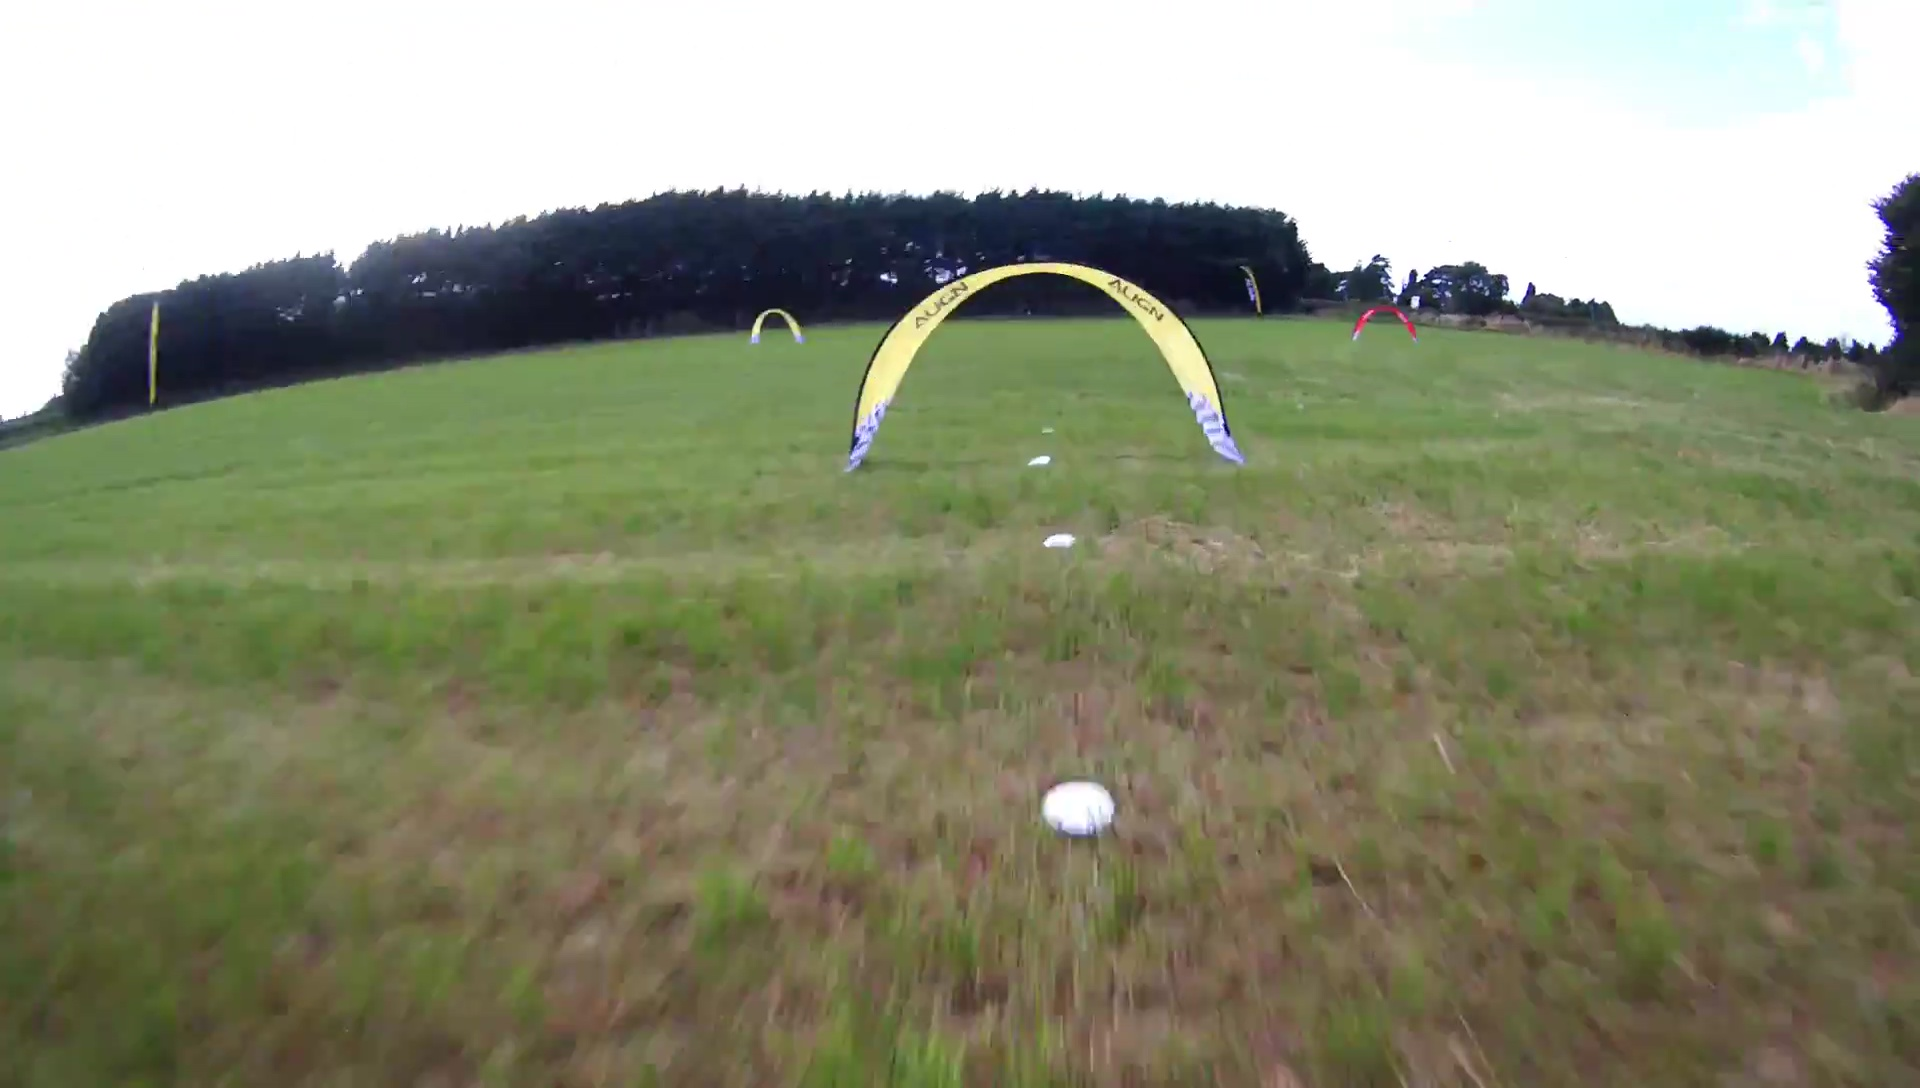gate: (844, 258, 1253, 475), (1349, 305, 1420, 343), (749, 306, 807, 346)
